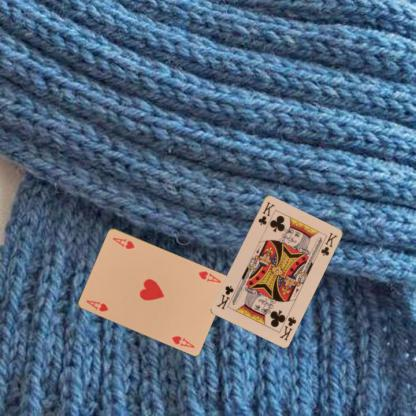Ah: (196, 269, 223, 284), (83, 298, 109, 313)
Kc: (276, 314, 298, 341), (256, 199, 276, 226)
